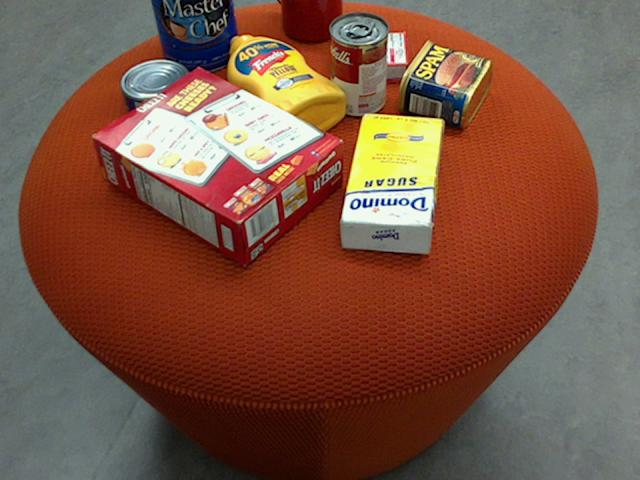cracker_box: (90, 65, 342, 263)
gelatin_box: (337, 31, 409, 81)
large_marker: (304, 0, 323, 35)
master_chef_can: (149, 0, 239, 72)
mug: (278, 0, 341, 41)
mustard_bottle: (226, 35, 344, 141)
potted_meat_can: (396, 40, 490, 128)
sugar_box: (341, 112, 442, 254)
tomato_soup_can: (329, 11, 388, 115)
tuna_fish_can: (118, 60, 193, 121)
